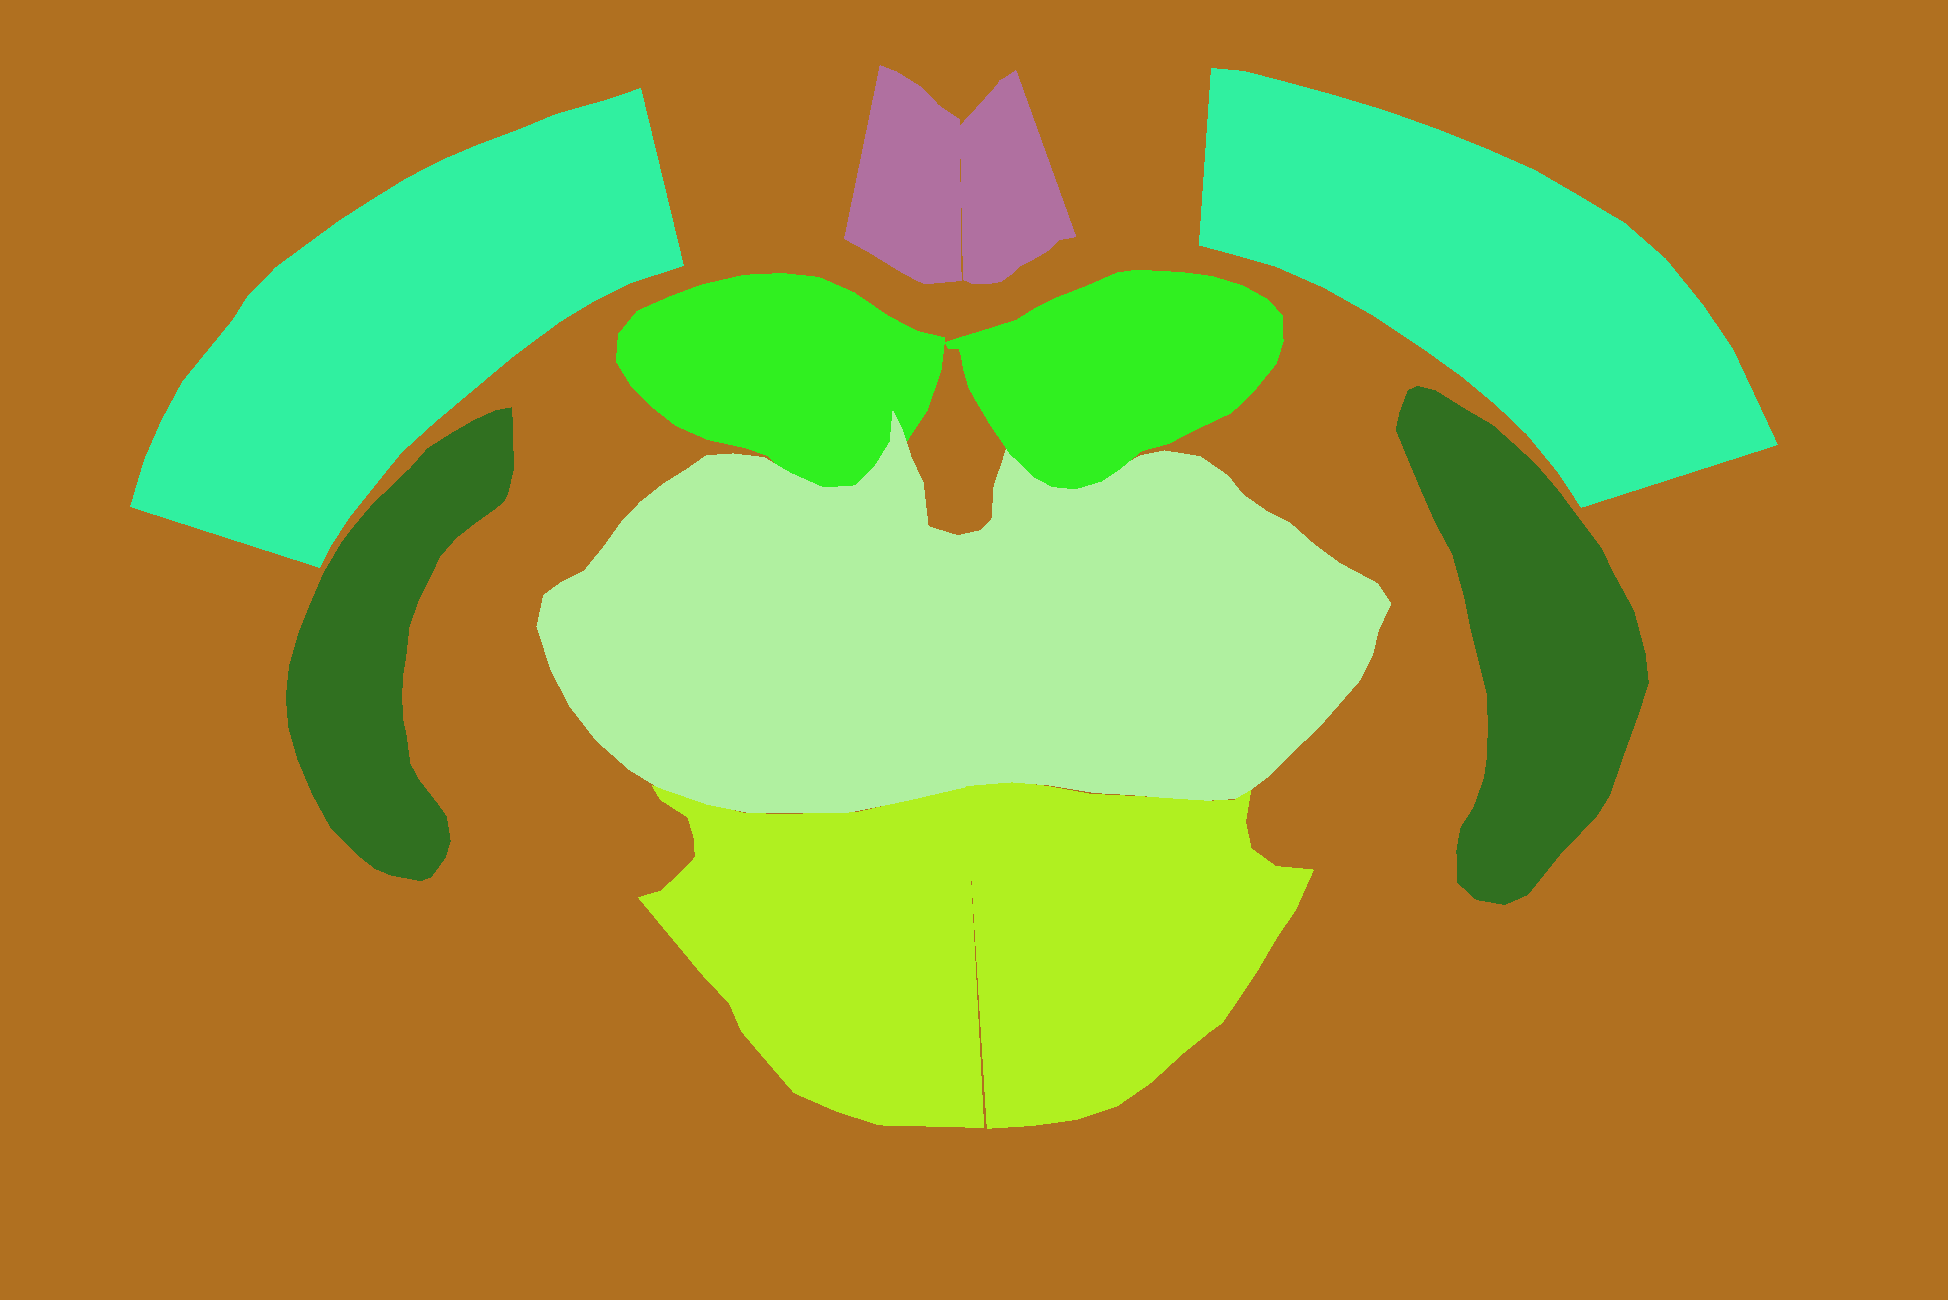Cerebral nuclei: (1395, 386, 1649, 905), (286, 408, 513, 881)
Hippocampal formation: (944, 270, 1284, 490), (616, 273, 946, 490)
Hypothalamus: (966, 782, 1316, 1129), (638, 785, 985, 1127)
Retrosplenial area: (844, 65, 962, 284), (960, 70, 1078, 284)
Somatosensory area: (131, 89, 685, 567), (1200, 68, 1778, 508)
Thalamus: (537, 411, 966, 814), (954, 418, 1392, 799)
